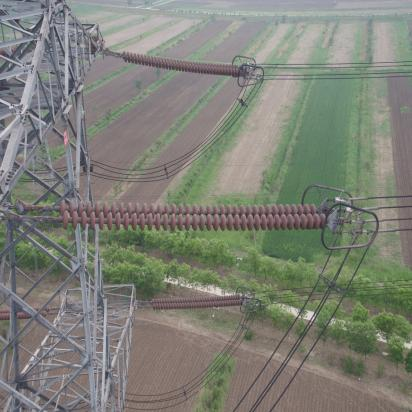insulator: (44, 199, 331, 234), (116, 48, 242, 79), (147, 293, 245, 311)
